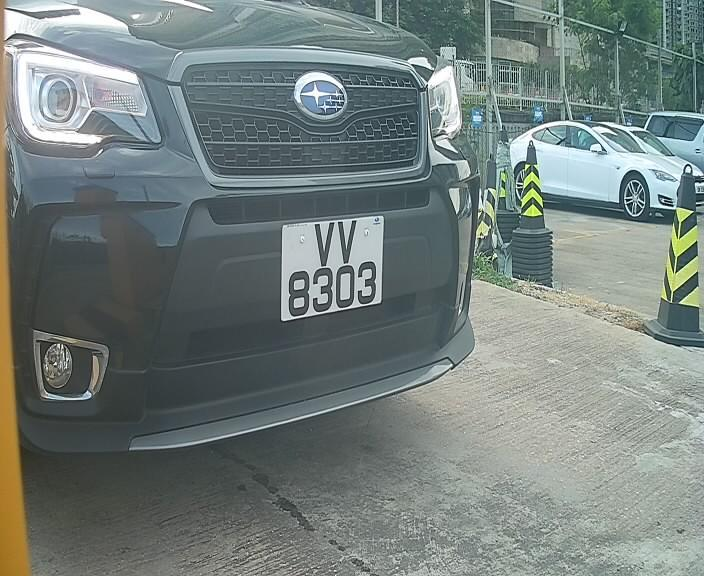privatecar: (2, 16, 478, 483)
